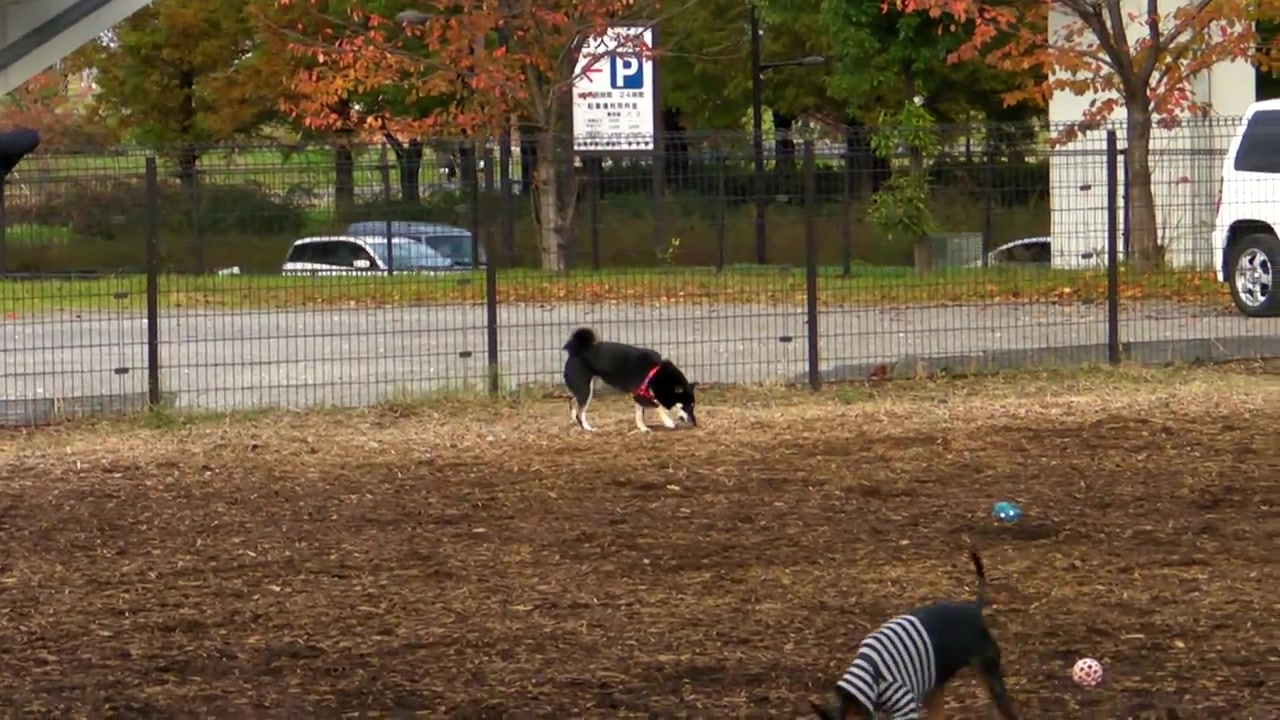dog: (565, 328, 700, 433)
